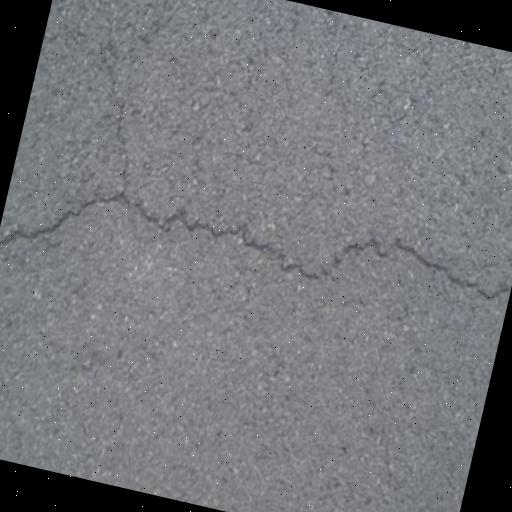spalling: (2, 180, 504, 318)
